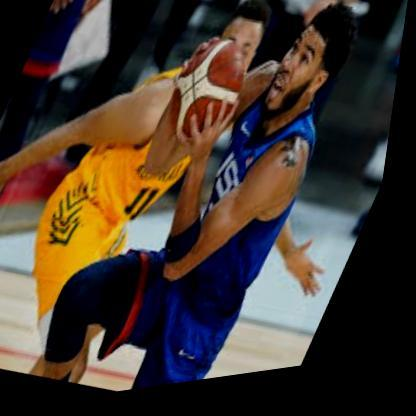basketball: (156, 33, 265, 160)
